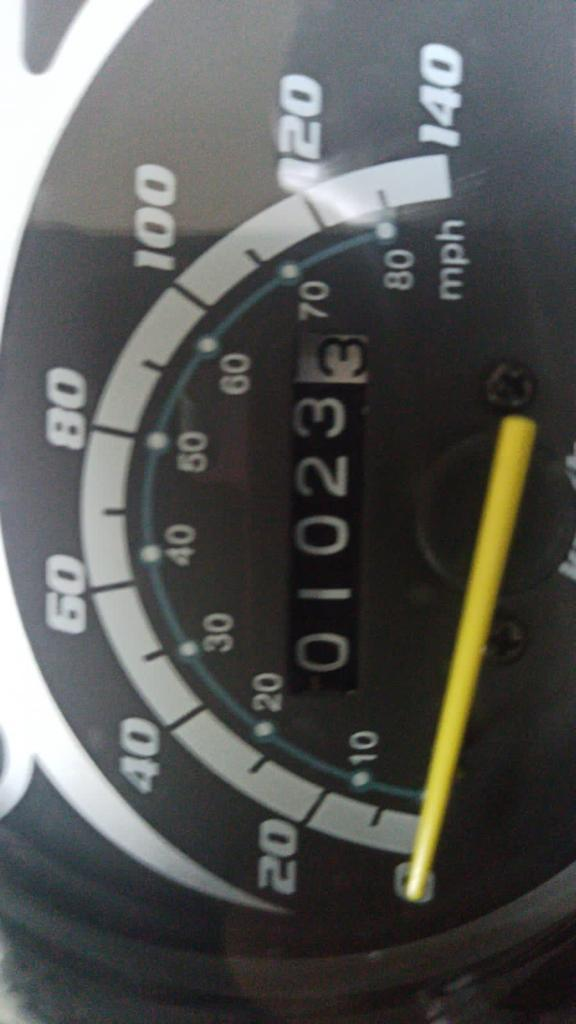0: (294, 625, 358, 676), (294, 509, 358, 559)
1: (291, 576, 365, 610)
2: (291, 449, 354, 497)
3: (310, 331, 374, 381), (292, 394, 351, 439)
odometer: (282, 324, 378, 695)
